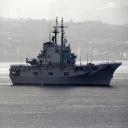Portanaves: (9, 17, 123, 88)
